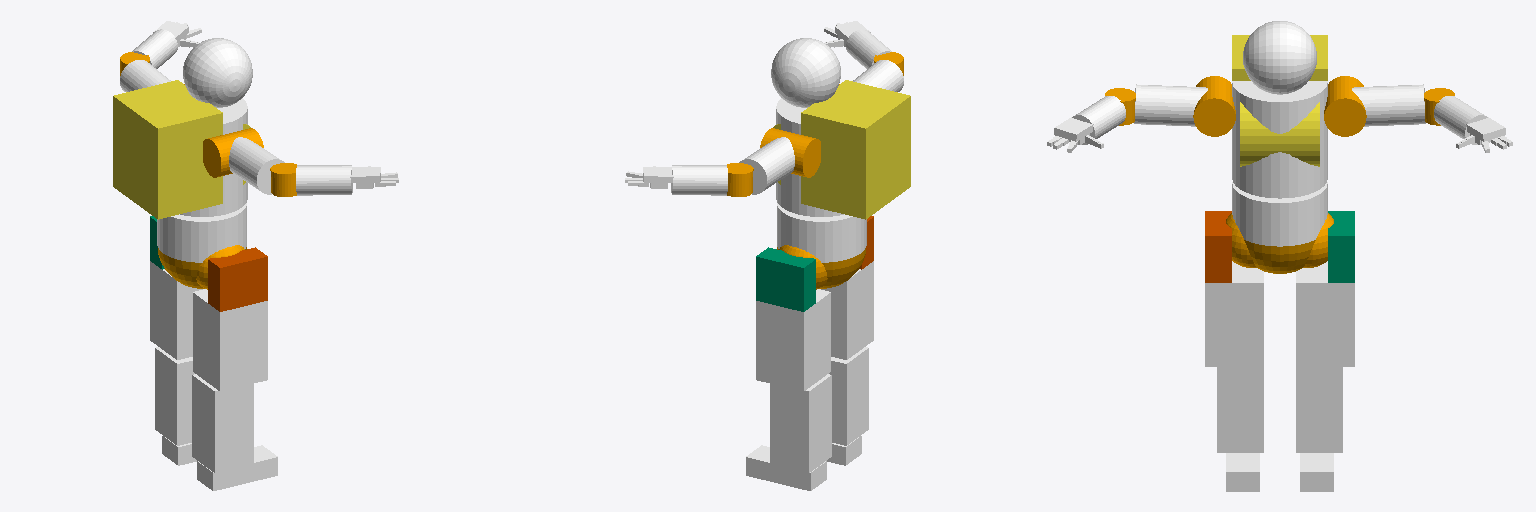
--- What the picture shows (computed from the rendered views, not written in the file) ---
Views: 3 orthographic renders of the robot side by side, from view 1: azimuth 30°, elevation 25°; view 2: azimuth 150°, elevation 25°; view 3: azimuth 270°, elevation 25°.
Model V1 with 101 links and 100 joints (32 revolute, 68 fixed), rooted at Pelvis, posed joints at zero except 4 at the middle of their limits (RightShoulderAdductor = -1.61, RightElbowExtensor = -1, LeftShoulderAdductor = -1.61, LeftElbowExtensor = -1).
Links seen in each view (by area): view 1: Trunk, RightLeg, RightShankStructure, Pelvis, Head, LeftLeg, LeftShankStructure, r_foot, RightForearm, RightShoulderRotator, RightShoulderExtensor, LeftForearm (+4 smaller); view 2: Trunk, LeftLeg, LeftShankStructure, Pelvis, Head, RightLeg, RightShankStructure, l_foot, LeftForearm, LeftShoulderRotator, LeftShoulderExtensor, RightForearm (+4 smaller); view 3: Trunk, RightLeg, LeftLeg, Pelvis, Head, RightShankStructure, LeftShankStructure, RightShoulderExtensor, LeftShoulderExtensor, LeftShoulderRotator, RightShoulderRotator, r_foot (+11 smaller).
Boxes of the visible links, box(x1,y1,x2,y2) form: Trunk: box(113, 80, 250, 219); RightLeg: box(193, 247, 267, 391); RightShankStructure: box(192, 374, 253, 472); Pelvis: box(157, 203, 246, 288); Head: box(183, 38, 252, 107); LeftLeg: box(150, 216, 202, 359); LeftShankStructure: box(155, 347, 194, 445); r_foot: box(197, 445, 277, 490); RightForearm: box(296, 165, 352, 195); RightShoulderRotator: box(233, 143, 284, 194); RightShoulderExtensor: box(203, 128, 263, 177); LeftForearm: box(132, 29, 177, 68); Trunk: box(773, 80, 910, 219); LeftLeg: box(756, 247, 830, 391); LeftShankStructure: box(770, 374, 831, 472); Pelvis: box(777, 203, 866, 288); Head: box(771, 38, 840, 107); RightLeg: box(821, 216, 873, 359); RightShankStructure: box(829, 347, 868, 445); l_foot: box(746, 445, 826, 490); LeftForearm: box(671, 165, 727, 195); LeftShoulderRotator: box(739, 143, 791, 194); LeftShoulderExtensor: box(760, 128, 820, 177); RightForearm: box(846, 29, 891, 68); Trunk: box(1232, 35, 1327, 198); RightLeg: box(1205, 211, 1263, 366); LeftLeg: box(1296, 211, 1354, 366); Pelvis: box(1232, 182, 1327, 273); Head: box(1243, 21, 1316, 94); RightShankStructure: box(1217, 367, 1263, 452); LeftShankStructure: box(1296, 367, 1342, 452); RightShoulderExtensor: box(1193, 76, 1235, 136); LeftShoulderExtensor: box(1324, 76, 1366, 136); LeftShoulderRotator: box(1371, 84, 1425, 125); RightShoulderRotator: box(1134, 84, 1188, 125); r_foot: box(1226, 453, 1259, 491).
Bounding box of the posed robot: 0.7539 × 1.75 × 1.87 m (x, y, z).
Geometry: primitives only (box / cylinder / sphere), no mesh files.

URDF robot description (V1):
<?xml version="1.0" ?><!-- =================================================================================== --><!-- |    This document was autogenerated by xacro from [local-path]/groovy_workspace/drc_configuration/xacro/V1_sim.xacro | --><!-- |    EDITING THIS FILE BY HAND IS NOT RECOMMENDED                                 | --><!-- =================================================================================== --><robot name="V1" xmlns:xacro="http://www.ros.org/wiki/xacro">
    <!-- ======================================================= -->
    <!-- DO NOT MODIFY URDF BY HAND! YOU ARE A FOOL IF YOU DO! -->
    <!-- ======================================================= -->
    <material name="White">
        <color rgba="1.0 1.0 1.0 1.0"/>
    </material>
    <material name="Gold">
        <color rgba="1.0 0.67 0 1.0"/>
    </material>
    <material name="Gray">
        <color rgba="0.5 0.5 0.5 1.0"/>
    </material>
    <material name="Pink">
        <color rgba="0.8 0 0.45 1.0"/>
    </material>
    
    
    
    <link name="Pelvis">
        <inertial>
            <mass value="6.95"/>
            <origin rpy="0 0 0" xyz="0.0005 -0.0009 -0.0704"/>
            <inertia ixx="0.147396179167" ixy="0.0" ixz="0.0" iyy="0.125244791667" iyz="0.0" izz="0.114921145833"/>
        </inertial>
        
        
    <collision><geometry><cylinder length="0.18" radius="0.18"/></geometry><origin rpy="0 0 0" xyz="0 0 -0.09"/></collision><collision><geometry><sphere radius="0.18"/></geometry><origin xyz="0 0 -0.18"/></collision><visual><geometry><cylinder length="0.18" radius="0.18"/></geometry><origin rpy="0 0 0" xyz="0 0 -0.09"/><material name="White"/></visual><visual><geometry><sphere radius="0.18"/></geometry><origin xyz="0 0 -0.18"/></visual></link>
    
    <link name="RightPelvisIMU_Frame">
        <inertial>
            <mass value="0.018"/>
            <origin rpy="0 0 0" xyz="0 0 0"/>
            <inertia ixx="3.0855e-06" ixy="0.0" ixz="0.0" iyy="3.768e-06" iyz="0.0" izz="1.0455e-06"/>
        </inertial>
        
        
    </link>
    
    <joint name="RightPelvisIMU_Offset" type="fixed">
        <origin rpy="-1.57079632679 0 1.275" xyz=".0459 -.1219 -.0423"/>
        <axis xyz="0 0 1"/>
        <parent link="Pelvis"/>
        <child link="RightPelvisIMU_Frame"/>
    </joint>
    <link name="LeftPelvisIMU_Frame">
        <inertial>
            <mass value="0.018"/>
            <origin rpy="0 0 0" xyz="0 0 0"/>
            <inertia ixx="3.0855e-06" ixy="0.0" ixz="0.0" iyy="3.768e-06" iyz="0.0" izz="1.0455e-06"/>
        </inertial>
        
        
    </link>
    
    <joint name="LeftPelvisIMU_Offset" type="fixed">
        <origin rpy="1.57079632679 0 -1.275" xyz=".0459 .1219 -.0423"/>
        <axis xyz="0 0 1"/>
        <parent link="Pelvis"/>
        <child link="LeftPelvisIMU_Frame"/>
    </joint>
    <link name="Trunk">
        <inertial>
            <mass value="41.9"/>
            <origin rpy="0 0 0" xyz="0.255 0 -0.0981"/>
            <inertia ixx="1.18918135833" ixy="0.0" ixz="0.0" iyy="1.42217329167" iyz="0.0" izz="1.35591891667"/>
        </inertial>
        
        
    <collision><geometry><cylinder length="0.4" radius="0.18"/></geometry><origin rpy="0 1.57079632679 0" xyz="0.2 0 -0.04"/></collision><collision><geometry><cylinder length="0.3" radius="0.15"/></geometry><origin rpy="1.57079632679 0 0" xyz="0.23 0 -0.005"/></collision><collision><geometry><box size="0.4 0.36 0.3"/></geometry><origin rpy="0 0 0" xyz="0.25 0 -0.2"/></collision><visual><geometry><cylinder length="0.4" radius="0.18"/></geometry><origin rpy="0 1.57079632679 0" xyz="0.2 0 -0.04"/><material name="White"/></visual><visual><geometry><cylinder length="0.3" radius="0.15"/></geometry><origin rpy="1.57079632679 0 0" xyz="0.23 0 -0.005"/></visual><visual><geometry><box size="0.4 0.36 0.3"/></geometry><origin rpy="0 0 0" xyz="0.25 0 -0.2"/></visual></link>
    
    <link name="WaistRotator">
        <!-- Virtual Link -->
        <inertial>
            <mass value="0.1"/>
            <origin rpy="0 0 0" xyz="0 0 0"/>
            <inertia ixx="8.33333333333e-05" ixy="0.0" ixz="0.0" iyy="8.33333333333e-05" iyz="0.0" izz="0.000125"/>
        </inertial>
    </link>
    <link name="WaistExtensor">
        <!-- Virtual Link -->
        <inertial>
            <mass value="0.1"/>
            <origin rpy="0 0 0" xyz="0 0 0"/>
            <inertia ixx="8.33333333333e-05" ixy="0.0" ixz="0.0" iyy="8.33333333333e-05" iyz="0.0" izz="0.000125"/>
        </inertial>
    </link>
    <joint name="WaistRotator" type="revolute">
        <origin rpy="0 0 0" xyz="0 0 0"/>
        <axis xyz="0 0 1"/>
        <parent link="Pelvis"/>
        <child link="WaistRotator"/>
        <limit effort="190" lower="-0.6981317004" upper="0.6981317004" velocity="5.89"/>
        <controller_gains Kd="400" Kp="20000"/>
        <dynamics damping="1.0" friction="0.0"/>
    </joint>
    
    <joint name="WaistExtensor" type="revolute">
        <origin rpy="1.57079632679 0 0" xyz="0.04191 0 0"/>
        <axis xyz="0 0 1"/>
        <parent link="WaistRotator"/>
        <child link="WaistExtensor"/>
        <limit effort="150" lower="-0.6981317004" upper="0.08726646255" velocity="9"/>
        <controller_gains Kd="400" Kp="20000"/>
        <dynamics damping="1.0" friction="0.0"/>
    </joint>
    
    <joint name="WaistLateralExtensor" type="revolute">
        <origin rpy="1.57079632679 0 1.57079632679" xyz="0 0.020352 0"/>
        <axis xyz="0 0 1"/>
        <parent link="WaistExtensor"/>
        <child link="Trunk"/>
        <limit effort="150" lower="-0.26179938765" upper="0.26179938765" velocity="9"/>
        <controller_gains Kd="400" Kp="20000"/>
        <dynamics damping="1.0" friction="0.0"/>
    </joint>
    
    
    
    
    
    
    
    <link name="RightIMU_Frame">
        <inertial>
            <mass value="0.018"/>
            <origin rpy="0 0 0" xyz="0 0 0"/>
            <inertia ixx="3.0855e-06" ixy="0.0" ixz="0.0" iyy="3.768e-06" iyz="0.0" izz="1.0455e-06"/>
        </inertial>
        
        
    </link>
    
    <joint name="RightIMU_Offset" type="fixed">
        <origin rpy="-1.57079632679 1.57079632679 0" xyz="0.363038 0.134239 -0.0468630"/>
        <axis xyz="0 0 1"/>
        <parent link="Trunk"/>
        <child link="RightIMU_Frame"/>
    </joint>
    <link name="LeftIMU_Frame">
        <inertial>
            <mass value="0.018"/>
            <origin rpy="0 0 0" xyz="0 0 0"/>
            <inertia ixx="3.0855e-06" ixy="0.0" ixz="0.0" iyy="3.768e-06" iyz="0.0" izz="1.0455e-06"/>
        </inertial>
        
        
    </link>
    
    <joint name="LeftIMU_Offset" type="fixed">
        <origin rpy="1.57079632679 1.57079632679 0" xyz="0.363038 -0.134239  -0.0468630"/>
        <axis xyz="0 0 1"/>
        <parent link="Trunk"/>
        <child link="LeftIMU_Frame"/>
    </joint>
    <link name="RightHazardCamera_Frame">
        <!-- Virtual Link -->
        <inertial>
            <mass value="0.1"/>
            <origin rpy="0 0 0" xyz="0 0 0"/>
            <inertia ixx="8.33333333333e-05" ixy="0.0" ixz="0.0" iyy="8.33333333333e-05" iyz="0.0" izz="0.000125"/>
        </inertial>
    </link>
    
    <joint name="RightHazardCamera_Offset" type="fixed">
        <origin rpy="0 0 0" xyz="0.0446987 0.0406146 0.0182674"/>
        <axis xyz="0 0 1"/>
        <parent link="Trunk"/>
        <child link="RightHazardCamera_Frame"/>
    </joint>
    <link name="LeftHazardCamera_Frame">
        <!-- Virtual Link -->
        <inertial>
            <mass value="0.1"/>
            <origin rpy="0 0 0" xyz="0 0 0"/>
            <inertia ixx="8.33333333333e-05" ixy="0.0" ixz="0.0" iyy="8.33333333333e-05" iyz="0.0" izz="0.000125"/>
        </inertial>
    </link>
    
    <joint name="LeftHazardCamera_Offset" type="fixed">
        <origin rpy="0 0 0" xyz="0.0446987 -0.0406146 0.0182674"/>
        <axis xyz="0 0 1"/>
        <parent link="Trunk"/>
        <child link="LeftHazardCamera_Frame"/>
    </joint>
    <link name="StereoHazardCamera_Frame">
        <!-- Virtual Link -->
        <inertial>
            <mass value="0.1"/>
            <origin rpy="0 0 0" xyz="0 0 0"/>
            <inertia ixx="8.33333333333e-05" ixy="0.0" ixz="0.0" iyy="8.33333333333e-05" iyz="0.0" izz="0.000125"/>
        </inertial>
    </link>
    <joint name="StereoHazardCamera_Offset" type="fixed">
        <origin rpy="0 0 1.57" xyz=".1723 -0.04535 0.0344"/>
        <axis xyz="0 0 1"/>
        <parent link="Trunk"/>
        <child link="StereoHazardCamera_Frame"/>
    </joint>
    <link name="LowerNeckExtensor">
        <!-- Virtual Link -->
        <inertial>
            <mass value="0.1"/>
            <origin rpy="0 0 0" xyz="0 0 0"/>
            <inertia ixx="8.33333333333e-05" ixy="0.0" ixz="0.0" iyy="8.33333333333e-05" iyz="0.0" izz="0.000125"/>
        </inertial>
        
        
    </link>
    <link name="NeckRotator">
        <!-- Virtual Link -->
        <inertial>
            <mass value="0.1"/>
            <origin rpy="0 0 0" xyz="0 0 0"/>
            <inertia ixx="8.33333333333e-05" ixy="0.0" ixz="0.0" iyy="8.33333333333e-05" iyz="0.0" izz="0.000125"/>
        </inertial>
        
        
    </link>
    <link name="Head">
        <inertial>
            <mass value="3.842"/>
            <origin rpy="0 0 0" xyz="-0.079 0.009 0"/>
            <inertia ixx="0.03012128" ixy="0.0" ixz="0.0" iyy="0.03012128" iyz="0.0" izz="0.03012128"/>
        </inertial>
        
        
    <collision><geometry><sphere radius="0.14"/></geometry><origin xyz="-0.09 0 0"/></collision><visual><geometry><sphere radius="0.14"/></geometry><origin xyz="-0.09 0 0"/><material name="White"/></visual></link>
    
    <joint name="LowerNeckExtensor" type="revolute">
        <origin rpy="-1.57079632679 0 0" xyz="0.3383 0 0.0519"/>
        <axis xyz="0 0 1"/>
        <parent link="Trunk"/>
        <child link="LowerNeckExtensor"/>
        <limit effort="26" lower="-1.5707963259" upper="0" velocity="5"/>
        <controller_gains Kd="0" Kp="20000"/>
        <dynamics damping="1.0" friction="0.0"/>
    </joint>
    
    <joint name="NeckRotator" type="revolute">
        <origin rpy="1.57079632679 0 1.57079632679" xyz="0 0.0519 0"/>
        <axis xyz="0 0 1"/>
        <parent link="LowerNeckExtensor"/>
        <child link="NeckRotator"/>
        <limit effort="26" lower="-1.5707963259" upper="1.5707963259" velocity="5"/>
        <controller_gains Kd="0" Kp="20000"/>
        <dynamics damping="1.0" friction="0.0"/>
    </joint>
    
    <joint name="UpperNeckExtensor" type="revolute">
        <origin rpy="-1.57079632679 0 0" xyz="0.06 0 0.196"/>
        <axis xyz="0 0 1"/>
        <parent link="NeckRotator"/>
        <child link="Head"/>
<!--        <limit effort="26" lower="-0.08726646255" upper="0.78539816295" velocity="5"/> -->
        <limit effort="26" lower="-0.15" upper="0.78539816295" velocity="5"/>
        <controller_gains Kd="0" Kp="20000"/>
        <dynamics damping="1.0" friction="0.0"/>
    </joint>
    
    
    
    
    
    
    
    <link name="HeadCamBoard_Frame">
        <!-- Virtual Link -->
        <inertial>
            <mass value="0.1"/>
            <origin rpy="0 0 0" xyz="0 0 0"/>
            <inertia ixx="8.33333333333e-05" ixy="0.0" ixz="0.0" iyy="8.33333333333e-05" iyz="0.0" izz="0.000125"/>
        </inertial>
    </link>
    
    <joint name="HeadCamBoard_Offset" type="fixed">
        <origin rpy="1.57079632679 3.14159265359 -.61" xyz="-0.186861111 0.085358875 -0.008499998"/>
        <axis xyz="0 0 1"/>
        <parent link="Head"/>
        <child link="HeadCamBoard_Frame"/>
    </joint>
    <link name="HeadCamBoardIR_Frame">
        <!-- Virtual Link -->
        <inertial>
            <mass value="0.1"/>
            <origin rpy="0 0 0" xyz="0 0 0"/>
            <inertia ixx="8.33333333333e-05" ixy="0.0" ixz="0.0" iyy="8.33333333333e-05" iyz="0.0" izz="0.000125"/>
        </inertial>
    </link>
    <joint name="HeadCamBoardIR_Offset" type="fixed">
        <origin rpy="-1.4279169 0.057186 -1.603747" xyz="-0.05180 -0.0013 0.030237"/>
        <axis xyz="0 0 1"/>
        <parent link="HeadCamBoard_Frame"/>
        <child link="HeadCamBoardIR_Frame"/>
    </joint>
    <link name="Ibeo_Frame">
        <!-- Virtual Link -->
        <inertial>
            <mass value="0.1"/>
            <origin rpy="0 0 0" xyz="0 0 0"/>
            <inertia ixx="8.33333333333e-05" ixy="0.0" ixz="0.0" iyy="8.33333333333e-05" iyz="0.0" izz="0.000125"/>
        </inertial>
    </link>
    
    <joint name="Ibeo_Offset" type="fixed">
        <origin rpy="-1.57079632679 0 -3.14159265359" xyz="-0.133 0.0065 -0.02325"/>
        <axis xyz="0 0 1"/>
        <parent link="Head"/>
        <child link="Ibeo_Frame"/>
    </joint>
    <link name="Ensenso_Frame">
        <!-- Virtual Link -->
        <inertial>
            <mass value="0.1"/>
            <origin rpy="0 0 0" xyz="0 0 0"/>
            <inertia ixx="8.33333333333e-05" ixy="0.0" ixz="0.0" iyy="8.33333333333e-05" iyz="0.0" izz="0.000125"/>
        </inertial>
    </link>
    <joint name="Ensenso_Offset" type="fixed">
        <origin rpy="0 -1.57079632679 0" xyz="-.1836 -.0645 -.00311"/>
        <axis xyz="0 0 1"/>
        <parent link="Head"/>
        <child link="Ensenso_Frame"/>
    </joint>
    <link name="EnsensoIR_Frame">
        <!-- Virtual Link -->
        <inertial>
            <mass value="0.1"/>
            <origin rpy="0 0 0" xyz="0 0 0"/>
            <inertia ixx="8.33333333333e-05" ixy="0.0" ixz="0.0" iyy="8.33333333333e-05" iyz="0.0" izz="0.000125"/>
        </inertial>
    </link>
    <joint name="EnsensoIR_Offset" type="fixed">
        <origin rpy="-0.31182 0.0562965 -0.0034575" xyz="0.0 0.006939 0.014954"/>
        <axis xyz="0 0 1"/>
        <parent link="Ensenso_Frame"/>
        <child link="EnsensoIR_Frame"/>
    </joint>
    <link name="HeadIMU_Frame">
        <inertial>
            <mass value="0.018"/>
            <origin rpy="0 0 0" xyz="0 0 0"/>
            <inertia ixx="3.0855e-06" ixy="0.0" ixz="0.0" iyy="3.768e-06" iyz="0.0" izz="1.0455e-06"/>
        </inertial>
        
        
    </link>
    
    <joint name="HeadIMU_Offset" type="fixed">
        <origin rpy="-1.57079632679 0  0" xyz="-0.103 -0.05239 0.00022730"/>
        <axis xyz="0 0 1"/>
        <parent link="Head"/>
        <child link="HeadIMU_Frame"/>
    </joint>
    <link name="HeadWebcam_Frame">
        <!-- Virtual Link -->
        <inertial>
            <mass value="0.1"/>
            <origin rpy="0 0 0" xyz="0 0 0"/>
            <inertia ixx="8.33333333333e-05" ixy="0.0" ixz="0.0" iyy="8.33333333333e-05" iyz="0.0" izz="0.000125"/>
        </inertial>
    </link>
    
    <joint name="HeadWebcam_Offset" type="fixed">
        <origin rpy="1.57079632679 3.14159265359 -0.2618" xyz="-0.180139 -0.10168 0.00"/>
        <axis xyz="0 0 1"/>
        <parent link="Head"/>
        <child link="HeadWebcam_Frame"/>
    </joint>
    <link name="RightShoulderExtensor">
        <inertial>
            <mass value="2.65"/>
            <origin rpy="0 0 0" xyz="0 -0.01204 -0.251"/>
            <inertia ixx="0.0137181666667" ixy="0.0" ixz="0.0" iyy="0.0105028333333" iyz="0.0" izz="0.0148064333333"/>
        </inertial>
        
        
    <collision><geometry><cylinder length="0.2" radius="0.08"/></geometry><origin rpy="1.57079632679 0 3.14159265359" xyz="0 -0.01 -0.246"/></collision><visual><geometry><cylinder length="0.2" radius="0.08"/></geometry><origin rpy="1.57079632679 0 3.14159265359" xyz="0 -0.01 -0.246"/><material name="Gold"/></visual></link>
    
    <link name="RightShoulderAdductor">
        <inertial>
            <mass value="2.87"/>
            <origin rpy="0 0 0" xyz="0.040 0.005 -0.02"/>
            <inertia ixx="0.0122024325" ixy="0.0" ixz="0.0" iyy="0.0175559325" iyz="0.0" izz="0.018176745"/>
        </inertial>
        
        
    <collision><geometry><cylinder length="0.12" radius="0.075"/></geometry><origin rpy="0 1.57079632679 0" xyz="0.07 0 0"/></collision><visual><geometry><cylinder length="0.12" radius="0.075"/></geometry><origin rpy="0 1.57079632679 0" xyz="0.07 0 0"/><material name="White"/></visual></link>
    
    <link name="RightShoulderRotator">
        <inertial>
            <mass value="2.575"/>
            <origin rpy="0 0 0" xyz="0.02 -0.004 -0.273"/>
            <inertia ixx="0.0227863895833" ixy="0.0" ixz="0.0" iyy="0.0213984645833" iyz="0.0" izz="0.00932579166667"/>
        </inertial>
        
        
    <collision><geometry><cylinder length="0.20" radius="0.075"/></geometry><origin rpy="0 0 0" xyz="0 0 -0.2"/></collision><visual><geometry><cylinder length="0.20" radius="0.075"/></geometry><origin rpy="0 0 0" xyz="0 0 -0.2"/><material name="White"/></visual></link>
    
    <link name="RightElbowExtensor">
        <inertial>
            <mass value="2.367"/>
            <origin rpy="0 0 0" xyz="0.0270 -0.0802 0"/>
            <inertia ixx="0.004941705" ixy="0.0" ixz="0.0" iyy="0.00469849291667" iyz="0.0" izz="0.00530133991667"/>
        </inertial>
        
        
    <collision><geometry><cylinder length="0.10" radius="0.06"/></geometry><origin rpy="0 0 0" xyz="0.02 -0.015 0"/></collision><visual><geometry><cylinder length="0.10" radius="0.06"/></geometry><origin rpy="0 0 0" xyz="0.02 -0.015 0"/><material name="Gold"/></visual></link>
    
    <joint name="RightShoulderExtensor" type="revolute">
        <origin rpy="1.57079632679 0 0" xyz="0.29842 0 -0.03157"/>
        <axis xyz="0 0 1"/>
        <parent link="Trunk"/>
        <child link="RightShoulderExtensor"/>
        <limit effort="190" lower="-3.1415926518" upper="3.1415926518" velocity="5.89"/>
        <controller_gains Kd="400" Kp="20000"/>
        <dynamics damping="1.0" friction="0.0"/>
    </joint>
    
    <joint name="RightShoulderAdductor" type="revolute">
        <origin rpy="1.57079632679 0 3.14159265359" xyz="0 0 -0.246"/>
        <axis xyz="0 0 1"/>
        <parent link="RightShoulderExtensor"/>
        <child link="RightShoulderAdductor"/>
        <limit effort="190" lower="-3.05432618925" upper="-0.1745329251" velocity="5.89"/>
        <controller_gains Kd="400" Kp="20000"/>
        <dynamics damping="1.0" friction="0.0"/>
    </joint>
    
    <joint name="RightShoulderSupinator" type="revolute">
        <origin rpy="-1.57079632679 0 1.57079632679" xyz="0 0 0"/>
        <axis xyz="0 0 1"/>
        <parent link="RightShoulderAdductor"/>
        <child link="RightShoulderRotator"/>
        <limit effort="65" lower="-1.5707963259" upper="1.5707963259" velocity="11.5"/>
        <controller_gains Kd="400" Kp="20000"/>
        <dynamics damping="1.0" friction="0.0"/>
    </joint>
    
    <joint name="RightElbowExtensor" type="revolute">
        <origin rpy="1.57079632679 0 1.57079632679" xyz="0 -0.0254 -0.33"/>
        <axis xyz="0 0 1"/>
        <parent link="RightShoulderRotator"/>
        <child link="RightElbowExtensor"/>
        <limit effort="65" lower="-1.9198621761" upper="-0.08726646255" velocity="11.5"/>
        <controller_gains Kd="400" Kp="20000"/>
        <dynamics damping="1.0" friction="0.0"/>
    </joint>
    
    <link name="RightForearm">
        <inertial>
            <mass value="2.703"/>
            <origin rpy="0 0 0" xyz="0 0.0006 -0.12"/>
            <inertia ixx="0.01633175125" ixy="0.0" ixz="0.0" iyy="0.0169338445" iyz="0.0" izz="0.00666402125"/>
        </inertial>
        
        
    <collision><geometry><cylinder length="0.22" radius="0.06"/></geometry><origin rpy="0 0 0" xyz="0 0 -0.17"/></collision><visual><geometry><cylinder length="0.22" radius="0.06"/></geometry><origin rpy="0 0 0" xyz="0 0 -0.17"/><material name="White"/></visual></link>
    
    <link name="RightWristYoke">
        <inertial>
            <mass value="0.1"/>
            <origin rpy="0 0 0" xyz="0 0 0"/>
            <inertia ixx="2.25083333333e-05" ixy="0.0" ixz="0.0" iyy="2.9175e-05" iyz="0.0" izz="8.33333333333e-06"/>
        </inertial>
        
        
    </link>
    <link name="RightPalm">
        <inertial>
            <mass value="0.712"/>
            <origin rpy="0 0 0" xyz="0.0425 0 0"/>
            <inertia ixx="0.000679010666667" ixy="0.0" ixz="0.0" iyy="0.000514360666667" iyz="0.0" izz="0.00102201666667"/>
        </inertial>
        
        
    <collision><geometry><box size="0.12 0.1 0.03"/></geometry><origin rpy="0 0 0" xyz="0.048 0 -0.0225"/><material name="White"/></collision><collision><geometry><box size="0.07 0.1 0.025"/></geometry><origin rpy="0 0 0" xyz="0.045 0 0.005"/><material name="White"/></collision><visual><geometry><box size="0.12 0.1 0.03"/></geometry><origin rpy="0 0 0" xyz="0.048 0 -0.0225"/><material name="White"/></visual><visual><geometry><box size="0.07 0.1 0.025"/></geometry><origin rpy="0 0 0" xyz="0.045 0 0.005"/><material name="White"/></visual></link>
    
    <joint name="RightForearmSupinator" type="revolute">
        <origin rpy="1.57079632679 0 3.14159265359" xyz="0.0254 0 0"/>
        <axis xyz="0 0 1"/>
        <parent link="RightElbowExtensor"/>
        <child link="RightForearm"/>
        <limit effort="26" lower="-2.35619448885" upper="2.35619448885" velocity="5"/>
        <controller_gains Kd="0" Kp="20000"/>
        <dynamics damping="1.0" friction="0.0"/>
    </joint>
    
    <joint name="RightWristExtensor" type="revolute">
        <origin rpy="-1.57079632679 0 1.57079632679" xyz="0 0 -0.287"/>
        <axis xyz="0 0 1"/>
        <parent link="RightForearm"/>
        <child link="RightWristYoke"/>
        <limit effort="14" lower="-0.8726646255" upper="0.6981317004" velocity="1"/>
        <controller_gains Kd="400" Kp="20000"/>
        <dynamics damping="1.0" friction="0.0"/>
    </joint>
    
    <joint name="RightWrist" type="revolute">
        <origin rpy="1.57079632679 0 1.57079632679" xyz="0 0 0"/>
        <axis xyz="0 0 1"/>
        <parent link="RightWristYoke"/>
        <child link="RightPalm"/>
        <limit effort="14" lower="-0.5235987753" upper="0.43633231275" velocity="1"/>
        <controller_gains Kd="400" Kp="20000"/>
        <dynamics damping="1.0" friction="0.0"/>
    </joint>
    
    
    
    
    
    
    
    
    
    
    
    
    
    
    
    <link name="RightCamBoard_Frame">
        <!-- Virtual Link -->
        <inertial>
            <mass value="0.1"/>
            <origin rpy="0 0 0" xyz="0 0 0"/>
            <inertia ixx="8.33333333333e-05" ixy="0.0" ixz="0.0" iyy="8.33333333333e-05" iyz="0.0" izz="0.000125"/>
        </inertial>
    </link>
    
    <joint name="RightCamBoard_Offset" type="fixed">
        <origin rpy="3.14159265359 1.57079632679 3.14159265359" xyz="0.049237 0.006877 -0.250708"/>
        <axis xyz="0 0 1"/>
        <parent link="RightForearm"/>
        <child link="RightCamBoard_Frame"/>
    </joint>
    <link name="RightCamBoardIR_Frame">
        <!-- Virtual Link -->
        <inertial>
            <mass value="0.1"/>
            <origin rpy="0 0 0" xyz="0 0 0"/>
            <inertia ixx="8.33333333333e-05" ixy="0.0" ixz="0.0" iyy="8.33333333333e-05" iyz="0.0" izz="0.000125"/>
        </inertial>
    </link>
    <joint name="RightCamBoardIR_Offset" type="fixed">
        <origin rpy="-1.4279169 0.057186 -1.603747" xyz="-0.05180 -0.0013 0.030237"/>
        <axis xyz="0 0 1"/>
        <parent link="RightCamBoard_Frame"/>
        <child link="RightCamBoardIR_Frame"/>
    </joint>
    <link name="LeftCamBoard_Frame">
        <!-- Virtual Link -->
        <inertial>
            <mass value="0.1"/>
            <origin rpy="0 0 0" xyz="0 0 0"/>
            <inertia ixx="8.33333333333e-05" ixy="0.0" ixz="0.0" iyy="8.33333333333e-05" iyz="0.0" izz="0.000125"/>
        </inertial>
    </link>
    
    <joint name="LeftCamBoard_Offset" type="fixed">
        <origin rpy="3.14159265359 -1.57079632679 0" xyz="0.045536 -0.0085 0.250708"/>
        <axis xyz="0 0 1"/>
        <parent link="LeftForearm"/>
        <child link="LeftCamBoard_Frame"/>
    </joint>
    <link name="LeftCamBoardIR_Frame">
        <!-- Virtual Link -->
        <inertial>
            <mass value="0.1"/>
            <origin rpy="0 0 0" xyz="0 0 0"/>
            <inertia ixx="8.33333333333e-05" ixy="0.0" ixz="0.0" iyy="8.33333333333e-05" iyz="0.0" izz="0.000125"/>
        </inertial>
    </link>
    <joint name="LeftCamBoardIR_Offset" type="fixed">
        <origin rpy="-1.4279169 0.057186 -1.603747" xyz="-0.05180 -0.0013 0.030237"/>
        <axis xyz="0 0 1"/>
        <parent link="LeftCamBoard_Frame"/>
        <child link="LeftCamBoardIR_Frame"/>
    </joint>
    <link name="RightThumbMetacarpal">
        <inertial>
            <mass value="0.017"/>
            <origin rpy="0 0 0" xyz="0 0 0"/>
            <inertia ixx="2.83333333333e-07" ixy="0.0" ixz="0.0" iyy="2.83333333333e-07" iyz="0.0" izz="2.83333333333e-07"/>
        </inertial>
        
        
    </link>
    
    <link name="RightThumbProximalPhalanx">
        <inertial>
            <mass value="0.02"/>
            <origin rpy="0 0 0" xyz="0.017 0 0"/>
            <inertia ixx="1.72833333333e-06" ixy="0.0" ixz="0.0" iyy="5.98666666667e-06" iyz="0.0" izz="5.46166666667e-06"/>
        </inertial>
        
        
    <collision><geometry><box size="0.04 0.015 0.025"/></geometry><origin rpy="0 0 0" xyz="0.02 0 0"/><material name="White"/></collision><visual><geometry><box size="0.04 0.015 0.025"/></geometry><origin rpy="0 0 0" xyz="0.02 0 0"/><material name="White"/></visual></link>
    
    <link name="RightThumbMedialPhalanx">
        <inertial>
            <mass value="0.013"/>
            <origin rpy="0 0 0" xyz="0.011 0 0"/>
            <inertia ixx="7.07416666667e-07" ixy="0.0" ixz="0.0" iyy="1.77666666667e-06" iyz="0.0" izz="1.43541666667e-06"/>
        </inertial>
        
        
    <collision><geometry><box size="0.03 0.015 0.020"/></geometry><origin rpy="0 0 0" xyz="0.015 0 0"/><material name="White"/></collision><visual><geometry><box size="0.03 0.015 0.020"/></geometry><origin rpy="0 0 0" xyz="0.015 0 0"/><material name="White"/></visual></link>
    
    <link name="RightThumbDistalPhalanx">
        <inertial>
            <mass value="0.006"/>
            <origin rpy="0 0 0" xyz="0.0086 0 0"/>
            <inertia ixx="2.525e-07" ixy="0.0" ixz="0.0" iyy="5.45e-07" iyz="0.0" izz="4.365e-07"/>
        </inertial>
        
        
    <collision><geometry><box size="0.022 0.015 0.017"/></geometry><origin rpy="0 0 0" xyz="0.011 0 0"/><material name="White"/></collision><visual><geometry><box size="0.022 0.015 0.017"/></geometry><origin rpy="0 0 0" xyz="0.011 0 0"/><material name="White"/></visual></link>
    
    <joint name="RightThumbMPYaw" type="fixed">
        <origin rpy="1.57079632679 0 -1.34390352" xyz="0.00748367180673 -0.0324153432851 0.005182"/>
        <axis xyz="0 0 1"/>
        <parent link="RightPalm"/>
        <child link="RightThumbMetacarpal"/>
    </joint>
    <joint name="RightThumbMPExtensor" type="fixed">
        <origin rpy="1.57079632679 0 0" xyz="0.02286 0 -0.025091"/>
        <axis xyz="0 0 1"/>
        <parent link="RightThumbMetacarpal"/>
        <child link="RightThumbProximalPhalanx"/>
    </joint>
    <joint name="RightThumbPIPExtensor" type="fixed">
        <origin rpy="0 0 0" xyz="0.0381 0 0"/>
        <axis xyz="0 0 1"/>
        <parent link="RightThumbProximalPhalanx"/>
        <child link="RightThumbMedialPhalanx"/>
    </joint>
    <joint name="RightThumbDIPExtensor" type="fixed">
        <origin rpy="0 0 0" xyz="0.02794 0 0"/>
        <axis xyz="0 0 1"/>
        <parent link="RightThumbMedialPhalanx"/>
        <child link="RightThumbDistalPhalanx"/>
    </joint>
    <link name="RightPrimaryMetacarpal">
        <inertial>
            <mass value="0.006"/>
            <origin rpy="0 0 0" xyz="-0.0048 0 0"/>
            <inertia ixx="4.225e-07" ixy="0.0" ixz="0.0" iyy="6.625e-07" iyz="0.0" izz="6.01e-07"/>
        </inertial>
        
        
    </link>
    
    <link name="RightPrimaryProximalPhalanx">
        <inertial>
            <mass value="0.018"/>
            <origin rpy="0 0 0" xyz="0.0175 0 0"/>
            <inertia ixx="1.203e-06" ixy="0.0" ixz="0.0" iyy="5.0355e-06" iyz="0.0" izz="4.9155e-06"/>
        </inertial>
        
        
    <collision><geometry><box size="0.04 0.015 0.025"/></geometry><origin rpy="0 0 0" xyz="0.02 0 0"/><material name="White"/></collision><visual><geometry><box size="0.04 0.015 0.025"/></geometry><origin rpy="0 0 0" xyz="0.02 0 0"/><material name="White"/></visual></link>
    
    <link name="RightPrimaryMedialPhalanx">
        <inertial>
            <mass value="0.01"/>
            <origin rpy="0 0 0" xyz="0.0108 -0.0003 0"/>
            <inertia ixx="3.81666666667e-07" ixy="0.0" ixz="0.0" iyy="1.20416666667e-06" iyz="0.0" izz="1.10416666667e-06"/>
        </inertial>
        
        
    <collision><geometry><box size="0.03 0.015 0.020"/></geometry><origin rpy="0 0 0" xyz="0.015 0 0"/><material name="White"/></collision><visual><geometry><box size="0.03 0.015 0.020"/></geometry><origin rpy="0 0 0" xyz="0.015 0 0"/><material name="White"/></visual></link>
    
    <link name="RightPrimaryDistalPhalanx">
        <inertial>
            <mass value="0.005"/>
            <origin rpy="0 0 0" xyz="0.00857 -0.000696 0"/>
            <inertia ixx="1.5375e-07" ixy="0.0" ixz="0.0" iyy="3.975e-07" iyz="0.0" izz="3.6375e-07"/>
        </inertial>
        
        
    <collision><geometry><box size="0.022 0.015 0.017"/></geometry><origin rpy="0 0 0" xyz="0.011 0 0"/><material name="White"/></collision><visual><geometry><box size="0.022 0.015 0.017"/></geometry><origin rpy="0 0 0" xyz="0.011 0 0"/><material name="White"/></visual></link>
    
    <joint name="RightPrimaryMPYaw" type="fixed">
        <origin rpy="0.0 0 -0.366519143" xyz="0.0776738914821 -0.0298162134085 0.00254"/>
        <axis xyz="0 0 1"/>
        <parent link="RightPalm"/>
        <child link="RightPrimaryMetacarpal"/>
    </joint>
    <joint name="RightPrimaryMPExtensor" type="fixed">
        <origin rpy="-1.57079632679 0 0.0568977336" xyz="0.0169724899301 0.000966739661347 0"/>
        <axis xyz="0 0 1"/>
        <parent link="RightPrimaryMetacarpal"/>
        <child link="RightPrimaryProximalPhalanx"/>
    </joint>
    <joint name="RightPrimaryPIPExtensor" type="fixed">
        <origin rpy="0 0 0" xyz="0.0381 0 0"/>
        <axis xyz="0 0 1"/>
        <parent link="RightPrimaryProximalPhalanx"/>
        <child link="RightPrimaryMedialPhalanx"/>
    </joint>
    <joint name="RightPrimaryDIPExtensor" type="fixed">
        <origin rpy="0 0 0" xyz="0.02286 0 0"/>
        <axis xyz="0 0 1"/>
        <parent link="RightPrimaryMedialPhalanx"/>
        <child link="RightPrimaryDistalPhalanx"/>
    </joint>
    <link name="RightMiddleProximalPhalanx">
        <inertial>
            <mass value="0.02"/>
            <origin rpy="0 0 0" xyz="0.017 0 0"/>
            <inertia ixx="1.72833333333e-06" ixy="0.0" ixz="0.0" iyy="5.98666666667e-06" iyz="0.0" izz="5.46166666667e-06"/>
        </inertial>
        
        
    <collision><geometry><box size="0.04 0.015 0.025"/></geometry><origin rpy="0 0 0" xyz="0.02 0 0"/><material name="White"/></collision><visual><geometry><box size="0.04 0.015 0.025"/></geometry><origin rpy="0 0 0" xyz="0.02 0 0"/><material name="White"/></visual></link>
    
    <link name="RightMiddleMedialPhalanx">
        <inertial>
            <mass value="0.011"/>
            <origin rpy="0 0 0" xyz="0.011 0 0"/>
            <inertia ixx="5.98583333333e-07" ixy="0.0" ixz="0.0" iyy="1.50333333333e-06" iyz="0.0" izz="1.21458333333e-06"/>
        </inertial>
        
        
    <collision><geometry><box size="0.03 0.015 0.020"/></geometry><origin rpy="0 0 0" xyz="0.015 0 0"/><material name="White"/></collision><visual><geometry><box size="0.03 0.015 0.020"/></geometry><origin rpy="0 0 0" xyz="0.015 0 0"/><material name="White"/></visual></link>
    
    <link name="RightMiddleDistalPhalanx">
        <inertial>
            <mass value="0.006"/>
            <origin rpy="0 0 0" xyz="0.0086 0 0"/>
            <inertia ixx="2.525e-07" ixy="0.0" ixz="0.0" iyy="5.45e-07" iyz="0.0" izz="4.365e-07"/>
        </inertial>
        
        
    <collision><geometry><box size="0.022 0.015 0.017"/></geometry><origin rpy="0 0 0" xyz="0.011 0 0"/><material name="White"/></collision><visual><geometry><box size="0.022 0.015 0.017"/></geometry><origin rpy="0 0 0" xyz="0.011 0 0"/><material name="White"/></visual></link>
    
    <joint name="RightMiddleMPExtensor" type="fixed">
        <origin rpy="-1.57079632679 0 0" xyz="0.09767 0 0.00254"/>
        <axis xyz="0 0 1"/>
        <parent link="RightPalm"/>
        <child link="RightMiddleProximalPhalanx"/>
    </joint>
    <joint name="RightMiddlePIPExtensor" type="fixed">
        <origin rpy="0 0 0" xyz="0.0381 0 0"/>
        <axis xyz="0 0 1"/>
        <parent link="RightMiddleProximalPhalanx"/>
        <child link="RightMiddleMedialPhalanx"/>
    </joint>
    <joint name="RightMiddleDIPExtensor" type="fixed">
        <origin rpy="0 0 0" xyz="0.02286 0 0"/>
        <axis xyz="0 0 1"/>
        <parent link="RightMiddleMedialPhalanx"/>
        <child link="RightMiddleDistalPhalanx"/>
    </joint>
    <link name="RightMedialMetacarpal">
        <inertial>
            <mass value="0.047"/>
            <origin rpy="0 0 0" xyz="0 0 0"/>
            <inertia ixx="7.83333333333e-07" ixy="0.0" ixz="0.0" iyy="7.83333333333e-07" iyz="0.0" izz="7.83333333333e-07"/>
        </inertial>
        
        
    </link>
    
    <link name="RightLittleProximalPhalanx">
        <inertial>
            <mass value="0.02"/>
            <origin rpy="0 0 0" xyz="0 0.017 0.050169"/>
            <inertia ixx="5.98666666667e-06" ixy="0.0" ixz="0.0" iyy="1.72833333333e-06" iyz="0.0" izz="5.46166666667e-06"/>
        </inertial>
        
        
    <collision><geometry><box size="0.04 0.015 0.025"/></geometry><origin rpy="0 0 1.57079632679" xyz="0 0.02 0.05"/><material name="White"/></collision><visual><geometry><box size="0.04 0.015 0.025"/></geometry><origin rpy="0 0 1.57079632679" xyz="0 0.02 0.05"/><material name="White"/></visual></link>
    
    <link name="RightLittleMedialPhalanx">
        <inertial>
            <mass value="0.011"/>
            <origin rpy="0 0 0" xyz="0.011 0 0"/>
            <inertia ixx="5.98583333333e-07" ixy="0.0" ixz="0.0" iyy="1.50333333333e-06" iyz="0.0" izz="1.21458333333e-06"/>
        </inertial>
        
        
    <collision><geometry><box size="0.03 0.015 0.020"/></geometry><origin rpy="0 0 0" xyz="0.015 0 0"/><material name="White"/></collision><visual><geometry><box size="0.03 0.015 0.020"/></geometry><origin rpy="0 0 0" xyz="0.015 0 0"/><material name="White"/></visual></link>
    
    <link name="RightLittleDistalPhalanx">
        <inertial>
            <mass value="0.006"/>
            <origin rpy="0 0 0" xyz="0.0086 0 0"/>
            <inertia ixx="2.525e-07" ixy="0.0" ixz="0.0" iyy="5.45e-07" iyz="0.0" izz="4.365e-07"/>
        </inertial>
        
        
    <collision><geometry><box size="0.022 0.015 0.017"/></geometry><origin rpy="0 0 0" xyz="0.011 0 0"/><material name="White"/></collision><visual><geometry><box size="0.022 0.015 0.017"/></geometry><origin rpy="0 0 0" xyz="0.011 0 0"/><material name="White"/></visual></link>
    
    <joint name="RightLittleMPYaw" type="fixed">
        <origin rpy="-1.57079632679 0 0.690626785" xyz="0.0427072303336 0.0352928446888 -0.007747"/>
        <axis xyz="0 0 1"/>
        <parent link="RightPalm"/>
        <child link="RightMedialMetacarpal"/>
    </joint>
    <joint name="RightLittleMPExtensor" type="fixed">
        <origin rpy="-0.690626785 0 -1.57079632679" xyz="0 -0.010287 -0.071327"/>
        <axis xyz="0 0 1"/>
        <parent link="RightMedialMetacarpal"/>
        <child link="RightLittleProximalPhalanx"/>
    </joint>
    <joint name="RightLittlePIPExtensor" type="fixed">
        <origin rpy="0 0 1.57079632679" xyz="0 0.0381 0.050169"/>
        <axis xyz="0 0 1"/>
        <parent link="RightLittleProximalPhalanx"/>
        <child link="RightLittleMedialPhalanx"/>
    </joint>
    <joint name="RightLittleDIPExtensor" type="fixed">
        <origin rpy="0 0 0" xyz="0.02286 0 0"/>
        <axis xyz="0 0 1"/>
        <parent link="RightLittleMedialPhalanx"/>
        <child link="RightLittleDistalPhalanx"/>
    </joint>
    <link name="LeftShoulderExtensor">
        <inertial>
            <mass value="2.65"/>
            <origin rpy="0 0 0" xyz="0 -0.01204 0.251"/>
            <inertia ixx="0.0137181666667" ixy="0.0" ixz="0.0" iyy="0.0105028333333" iyz="0.0" izz="0.0148064333333"/>
        </inertial>
        
        
    <collision><geometry><cylinder length="0.2" radius="0.08"/></geometry><origin rpy="1.57079632679 0 3.14159265359" xyz="0 -0.01 0.246"/></collision><visual><geometry><cylinder length="0.2" radius="0.08"/></geometry><origin rpy="1.57079632679 0 3.14159265359" xyz="0 -0.01 0.246"/><material name="Gold"/></visual></link>
    
    <link name="LeftShoulderAdductor">
        <inertial>
            <mass value="2.87"/>
            <origin rpy="0.0 0.00 0.0" xyz="0.04 0.005 0.02"/>
            <inertia ixx="0.0122024325" ixy="0.0" ixz="0.0" iyy="0.0175559325" iyz="0.0" izz="0.018176745"/>
        </inertial>
        
        
    <collision><geometry><cylinder length="0.12" radius="0.075"/></geometry><origin rpy="0 1.57079632679 0" xyz="0.07 0 0"/></collision><visual><geometry><cylinder length="0.12" radius="0.075"/></geometry><origin rpy="0 1.57079632679 0" xyz="0.07 0 0"/><material name="White"/></visual></link>
    
    <link name="LeftShoulderRotator">
        <inertial>
            <mass value="2.575"/>
            <origin rpy="0 0 0" xyz="-0.02 0.004 0.273"/>
            <inertia ixx="0.0227863895833" ixy="0.0" ixz="0.0" iyy="0.0213984645833" iyz="0.0" izz="0.00932579166667"/>
        </inertial>
        
        
    <collision><geometry><cylinder length="0.20" radius="0.075"/></geometry><origin rpy="0 0 0" xyz="0 0 0.2"/></collision><visual><geometry><cylinder length="0.20" radius="0.075"/></geometry><origin rpy="0 0 0" xyz="0 0 0.2"/><material name="White"/></visual></link>
    
    <link name="LeftElbowExtensor">
        <inertial>
            <mass value="2.367"/>
            <origin rpy="0 0 0" xyz="0.0270 -0.0802 0"/>
            <inertia ixx="0.004941705" ixy="0.0" ixz="0.0" iyy="0.00469849291667" iyz="0.0" izz="0.00530133991667"/>
        </inertial>
        
        
    <collision><geometry><cylinder length="0.10" radius="0.06"/></geometry><origin rpy="0 0 0" xyz="0.02 -0.015 0"/></collision><visual><geometry><cylinder length="0.10" radius="0.06"/></geometry><origin rpy="0 0 0" xyz="0.02 -0.015 0"/><material name="Gold"/></visual></link>
    
    <joint name="LeftShoulderExtensor" type="revolute">
        <origin rpy="1.57079632679 0 0" xyz="0.29842 0 -0.03157"/>
        <axis xyz="0 0 1"/>
        <parent link="Trunk"/>
        <child link="LeftShoulderExtensor"/>
        <limit effort="190" lower="-3.1415926518" upper="3.1415926518" velocity="5.89"/>
        <controller_gains Kd="400" Kp="20000"/>
        <dynamics damping="1.0" friction="0.0"/>
    </joint>
    
    <joint name="LeftShoulderAdductor" type="revolute">
        <origin rpy="-1.57079632679 0 3.14159265359" xyz="0 0 0.246"/>
        <axis xyz="0 0 1"/>
        <parent link="LeftShoulderExtensor"/>
        <child link="LeftShoulderAdductor"/>
        <limit effort="190" lower="-3.05432618925" upper="-0.1745329251" velocity="5.89"/>
        <controller_gains Kd="400" Kp="20000"/>
        <dynamics damping="1.0" friction="0.0"/>
    </joint>
    
    <joint name="LeftShoulderSupinator" type="revolute">
        <origin rpy="-1.57079632679 0 -1.57079632679" xyz="0 0 0"/>
        <axis xyz="0 0 1"/>
        <parent link="LeftShoulderAdductor"/>
        <child link="LeftShoulderRotator"/>
        <limit effort="65" lower="-1.5707963259" upper="1.5707963259" velocity="11.5"/>
        <controller_gains Kd="400" Kp="20000"/>
        <dynamics damping="1.0" friction="0.0"/>
    </joint>
    
    <joint name="LeftElbowExtensor" type="revolute">
        <origin rpy="-1.57079632679 0 -1.57079632679" xyz="0 0.0254 0.33"/>
        <axis xyz="0 0 1"/>
        <parent link="LeftShoulderRotator"/>
        <child link="LeftElbowExtensor"/>
        <limit effort="65" lower="-1.9198621761" upper="-0.08726646255" velocity="11.5"/>
        <controller_gains Kd="400" Kp="20000"/>
        <dynamics damping="1.0" friction="0.0"/>
    </joint>
    
    <link name="LeftForearm">
        <inertial>
            <mass value="2.703"/>
            <origin rpy="0 0 0" xyz="0 -0.0006 0.12"/>
            <inertia ixx="0.01633175125" ixy="0.0" ixz="0.0" iyy="0.0169338445" iyz="0.0" izz="0.00666402125"/>
        </inertial>
        
        
    <collision><geometry><cylinder length="0.22" radius="0.06"/></geometry><origin rpy="0 0 0" xyz="0 0 0.17"/></collision><visual><geometry><cylinder length="0.22" radius="0.06"/></geometry><origin rpy="0 0 0" xyz="0 0 0.17"/><material name="White"/></visual></link>
    
    <link name="LeftWristYoke">
        <inertial>
            <mass value="0.1"/>
            <origin rpy="0 0 0" xyz="0 0 0"/>
            <inertia ixx="2.25083333333e-05" ixy="0.0" ixz="0.0" iyy="2.9175e-05" iyz="0.0" izz="8.33333333333e-06"/>
        </inertial>
        
        
    </link>
    <link name="LeftPalm">
        <inertial>
            <mass value="0.712"/>
            <origin rpy="0 0 0" xyz="0.0425 0 0"/>
            <inertia ixx="0.000679010666667" ixy="0.0" ixz="0.0" iyy="0.000514360666667" iyz="0.0" izz="0.00102201666667"/>
        </inertial>
        
        
    <collision><geometry><box size="0.12 0.1 0.03"/></geometry><origin rpy="0 0 0" xyz="0.048 0 0.0225"/><material name="White"/></collision><collision><geometry><box size="0.07 0.1 0.025"/></geometry><origin rpy="0 0 0" xyz="0.045 0 -0.005"/><material name="White"/></collision><visual><geometry><box size="0.12 0.1 0.03"/></geometry><origin rpy="0 0 0" xyz="0.048 0 0.0225"/><material name="White"/></visual><visual><geometry><box size="0.07 0.1 0.025"/></geometry><origin rpy="0 0 0" xyz="0.045 0 -0.005"/><material name="White"/></visual></link>
    


  <!-- mfallon extra stuff left hand-->
  <link name="l_hand_force_torque">
    <inertial>
      <mass value="0.001"/>
      <origin xyz="0 0 0"/>
      <inertia ixx="0.00001" ixy="0" ixz="0" iyy="0.00001" iyz="0" izz="0.00001"/>
    </inertial>
    
  </link>
  <joint name="l_hand_force_torque_joint" type="fixed">
    <origin rpy="0 0 0" xyz="0 0 0"/>
    <parent link="LeftPalm"/>
    <child link="l_hand_force_torque"/>
  </joint>
  <link name="left_palm">
    <inertial>
      <mass value="0.001"/>
      <origin xyz="0 0 0"/>
      <inertia ixx="0.00001" ixy="0" ixz="0" iyy="0.00001" iyz="0" izz="0.00001"/>
    </inertial>
    
  </link>
  <joint name="left_valkyrie_hand_joint" type="fixed">
    <origin rpy="1.57079632679 1.57079632679 0" xyz="0.08 0 0"/>
    <parent link="l_hand_force_torque"/>
    <child link="left_palm"/>
  </joint>
  <link name="l_hand_face">
    <inertial>
      <mass value="0.001"/>
      <origin xyz="0 0 0"/>
      <inertia ixx="0.00001" ixy="0" ixz="0" iyy="0.00001" iyz="0" izz="0.00001"/>
    </inertial>
  </link>
  <joint name="l_hand_face_joint" type="fixed">
    <origin rpy="3.14159265359 0 1.57079632679" xyz="0.08 0.0 -0.04"/>
    <parent link="l_hand_force_torque"/>
    <child link="l_hand_face"/>
  </joint>
  <!-- end mfallon extra stuff left hand-->




  <!-- mfallon extra stuff right hand-->
  <link name="r_hand_force_torque">
    <inertial>
      <mass value="0.001"/>
      <origin xyz="0 0 0"/>
      <inertia ixx="0.00001" ixy="0" ixz="0" iyy="0.00001" iyz="0" izz="0.00001"/>
    </inertial>
    
  </link>
  <joint name="r_hand_force_torque_joint" type="fixed">
    <origin rpy="0 0 0" xyz="0 0 0"/>
    <parent link="RightPalm"/>
    <child link="r_hand_force_torque"/>
  </joint>
  <link name="right_palm">
    <inertial>
      <mass value="0.001"/>
      <origin xyz="0 0 0"/>
      <inertia ixx="0.00001" ixy="0" ixz="0" iyy="0.00001" iyz="0" izz="0.00001"/>
    </inertial>
    
  </link>
  <joint name="right_valkyrie_hand_joint" type="fixed">
    <origin rpy="0 -1.57079632679 -1.57079632679" xyz="0.08 0 0"/>
    <parent link="r_hand_force_torque"/>
    <child link="right_palm"/>
  </joint>
  <link name="r_hand_face">
    <inertial>
      <mass value="0.001"/>
      <origin xyz="0 0 0"/>
      <inertia ixx="0.00001" ixy="0" ixz="0" iyy="0.00001" iyz="0" izz="0.00001"/>
    </inertial>
  </link>
  <joint name="r_hand_face_joint" type="fixed">
    <origin rpy="0 0 -1.57079632679" xyz="0.08 0 0.04"/>
    <parent link="r_hand_force_torque"/>
    <child link="r_hand_face"/>
  </joint>
  <!-- end mfallon extra stuff right hand-->




    <joint name="LeftForearmSupinator" type="revolute">
        <origin rpy="-1.57079632679 0 3.14159265359" xyz="0.0254 0 0"/>
        <axis xyz="0 0 1"/>
        <parent link="LeftElbowExtensor"/>
        <child link="LeftForearm"/>
        <limit effort="26" lower="-2.35619448885" upper="2.35619448885" velocity="5"/>
        <controller_gains Kd="0" Kp="20000"/>
        <dynamics damping="1.0" friction="0.0"/>
    </joint>
    
    <joint name="LeftWristExtensor" type="revolute">
        <origin rpy="-1.57079632679 0 -1.57079632679" xyz="0 0 0.287"/>
        <axis xyz="0 0 1"/>
        <parent link="LeftForearm"/>
        <child link="LeftWristYoke"/>
        <limit effort="14" lower="-0.8726646255" upper="0.6981317004" velocity="1"/>
        <controller_gains Kd="400" Kp="20000"/>
        <dynamics damping="1.0" friction="0.0"/>
    </joint>
    
    <joint name="LeftWrist" type="revolute">
        <origin rpy="-1.57079632679 0 -1.57079632679" xyz="0 0 0"/>
        <axis xyz="0 0 1"/>
        <parent link="LeftWristYoke"/>
        <child link="LeftPalm"/>
        <limit effort="14" lower="-0.5235987753" upper="0.43633231275" velocity="1"/>
        <controller_gains Kd="400" Kp="20000"/>
        <dynamics damping="1.0" friction="0.0"/>
    </joint>
    
    
    
    
    
    
    
    
    
    
    
    
    
    
    
    <link name="LeftThumbMetacarpal">
        <inertial>
            <mass value="0.017"/>
            <origin rpy="0 0 0" xyz="0 0 0"/>
            <inertia ixx="2.83333333333e-07" ixy="0.0" ixz="0.0" iyy="2.83333333333e-07" iyz="0.0" izz="2.83333333333e-07"/>
        </inertial>
        
        
    </link>
    
    <link name="LeftThumbProximalPhalanx">
        <inertial>
            <mass value="0.02"/>
            <origin rpy="0 0 0" xyz="0.017 0 0"/>
            <inertia ixx="1.72833333333e-06" ixy="0.0" ixz="0.0" iyy="5.98666666667e-06" iyz="0.0" izz="5.46166666667e-06"/>
        </inertial>
        
        
    <collision><geometry><box size="0.04 0.015 0.025"/></geometry><origin rpy="0 0 0" xyz="0.02 0 0"/><material name="White"/></collision><visual><geometry><box size="0.04 0.015 0.025"/></geometry><origin rpy="0 0 0" xyz="0.02 0 0"/><material name="White"/></visual></link>
    
    <link name="LeftThumbMedialPhalanx">
        <inertial>
            <mass value="0.013"/>
            <origin rpy="0 0 0" xyz="0.011 0 0"/>
            <inertia ixx="7.07416666667e-07" ixy="0.0" ixz="0.0" iyy="1.77666666667e-06" iyz="0.0" izz="1.43541666667e-06"/>
        </inertial>
        
        
    <collision><geometry><box size="0.03 0.015 0.020"/></geometry><origin rpy="0 0 0" xyz="0.015 0 0"/><material name="White"/></collision><visual><geometry><box size="0.03 0.015 0.020"/></geometry><origin rpy="0 0 0" xyz="0.015 0 0"/><material name="White"/></visual></link>
    
    <link name="LeftThumbDistalPhalanx">
        <inertial>
            <mass value="0.006"/>
            <origin rpy="0 0 0" xyz="0.0086 0 0"/>
            <inertia ixx="2.525e-07" ixy="0.0" ixz="0.0" iyy="5.45e-07" iyz="0.0" izz="4.365e-07"/>
        </inertial>
        
        
    <collision><geometry><box size="0.022 0.015 0.017"/></geometry><origin rpy="0 0 0" xyz="0.011 0 0"/><material name="White"/></collision><visual><geometry><box size="0.022 0.015 0.017"/></geometry><origin rpy="0 0 0" xyz="0.011 0 0"/><material name="White"/></visual></link>
    
    <joint name="LeftThumbMPYaw" type="fixed">
        <origin rpy="-1.57079632679 0 -1.34390352" xyz="0.00748367180673 -0.0324153432851 -0.005182"/>
        <axis xyz="0 0 1"/>
        <parent link="LeftPalm"/>
        <child link="LeftThumbMetacarpal"/>
    </joint>
    <joint name="LeftThumbMPExtensor" type="fixed">
        <origin rpy="-1.57079632679 0 0" xyz="0.02286 0 0.025091"/>
        <axis xyz="0 0 1"/>
        <parent link="LeftThumbMetacarpal"/>
        <child link="LeftThumbProximalPhalanx"/>
    </joint>
    <joint name="LeftThumbPIPExtensor" type="fixed">
        <origin rpy="0 0 0" xyz="0.0381 0 0"/>
        <axis xyz="0 0 1"/>
        <parent link="LeftThumbProximalPhalanx"/>
        <child link="LeftThumbMedialPhalanx"/>
    </joint>
    <joint name="LeftThumbDIPExtensor" type="fixed">
        <origin rpy="0 0 0" xyz="0.02794 0 0"/>
        <axis xyz="0 0 1"/>
        <parent link="LeftThumbMedialPhalanx"/>
        <child link="LeftThumbDistalPhalanx"/>
    </joint>
    <link name="LeftPrimaryMetacarpal">
        <inertial>
            <mass value="0.006"/>
            <origin rpy="0 0 0" xyz="-0.0048 0 0"/>
            <inertia ixx="4.225e-07" ixy="0.0" ixz="0.0" iyy="6.625e-07" iyz="0.0" izz="6.01e-07"/>
        </inertial>
        
        
    </link>
    
    <link name="LeftPrimaryProximalPhalanx">
        <inertial>
            <mass value="0.018"/>
            <origin rpy="0 0 0" xyz="0.0175 0 0"/>
            <inertia ixx="1.203e-06" ixy="0.0" ixz="0.0" iyy="5.0355e-06" iyz="0.0" izz="4.9155e-06"/>
        </inertial>
        
        
    <collision><geometry><box size="0.04 0.015 0.025"/></geometry><origin rpy="0 0 0" xyz="0.02 0 0"/><material name="White"/></collision><visual><geometry><box size="0.04 0.015 0.025"/></geometry><origin rpy="0 0 0" xyz="0.02 0 0"/><material name="White"/></visual></link>
    
    <link name="LeftPrimaryMedialPhalanx">
        <inertial>
            <mass value="0.01"/>
            <origin rpy="0 0 0" xyz="0.0108 -0.0003 0"/>
            <inertia ixx="3.81666666667e-07" ixy="0.0" ixz="0.0" iyy="1.20416666667e-06" iyz="0.0" izz="1.10416666667e-06"/>
        </inertial>
        
        
    <collision><geometry><box size="0.03 0.015 0.020"/></geometry><origin rpy="0 0 0" xyz="0.015 0 0"/><material name="White"/></collision><visual><geometry><box size="0.03 0.015 0.020"/></geometry><origin rpy="0 0 0" xyz="0.015 0 0"/><material name="White"/></visual></link>
    
    <link name="LeftPrimaryDistalPhalanx">
        <inertial>
            <mass value="0.005"/>
            <origin rpy="0 0 0" xyz="0.00857 -0.000696 0"/>
            <inertia ixx="1.5375e-07" ixy="0.0" ixz="0.0" iyy="3.975e-07" iyz="0.0" izz="3.6375e-07"/>
        </inertial>
        
        
    <collision><geometry><box size="0.022 0.015 0.017"/></geometry><origin rpy="0 0 0" xyz="0.011 0 0"/><material name="White"/></collision><visual><geometry><box size="0.022 0.015 0.017"/></geometry><origin rpy="0 0 0" xyz="0.011 0 0"/><material name="White"/></visual></link>
    
    <joint name="LeftPrimaryMPYaw" type="fixed">
        <origin rpy="-3.14159265359 0 -0.366519143" xyz="0.0776738914821 -0.0298162134085 -0.00254"/>
        <axis xyz="0 0 1"/>
        <parent link="LeftPalm"/>
        <child link="LeftPrimaryMetacarpal"/>
    </joint>
    <joint name="LeftPrimaryMPExtensor" type="fixed">
        <origin rpy="-1.57079632679 0 0.0568977336" xyz="0.0169724899301 0.000966739661347 0"/>
        <axis xyz="0 0 1"/>
        <parent link="LeftPrimaryMetacarpal"/>
        <child link="LeftPrimaryProximalPhalanx"/>
    </joint>
    <joint name="LeftPrimaryPIPExtensor" type="fixed">
        <origin rpy="0 0 0" xyz="0.0381 0 0"/>
        <axis xyz="0 0 1"/>
        <parent link="LeftPrimaryProximalPhalanx"/>
        <child link="LeftPrimaryMedialPhalanx"/>
    </joint>
    <joint name="LeftPrimaryDIPExtensor" type="fixed">
        <origin rpy="0 0 0" xyz="0.02286 0 0"/>
        <axis xyz="0 0 1"/>
        <parent link="LeftPrimaryMedialPhalanx"/>
        <child link="LeftPrimaryDistalPhalanx"/>
    </joint>
    <link name="LeftMiddleProximalPhalanx">
        <inertial>
            <mass value="0.02"/>
            <origin rpy="0 0 0" xyz="0.017 0 0"/>
            <inertia ixx="1.72833333333e-06" ixy="0.0" ixz="0.0" iyy="5.98666666667e-06" iyz="0.0" izz="5.46166666667e-06"/>
        </inertial>
        
        
    <collision><geometry><box size="0.04 0.015 0.025"/></geometry><origin rpy="0 0 0" xyz="0.02 0 0"/><material name="White"/></collision><visual><geometry><box size="0.04 0.015 0.025"/></geometry><origin rpy="0 0 0" xyz="0.02 0 0"/><material name="White"/></visual></link>
    
    <link name="LeftMiddleMedialPhalanx">
        <inertial>
            <mass value="0.011"/>
            <origin rpy="0 0 0" xyz="0.011 0 0"/>
            <inertia ixx="5.98583333333e-07" ixy="0.0" ixz="0.0" iyy="1.50333333333e-06" iyz="0.0" izz="1.21458333333e-06"/>
        </inertial>
        
        
    <collision><geometry><box size="0.03 0.015 0.020"/></geometry><origin rpy="0 0 0" xyz="0.015 0 0"/><material name="White"/></collision><visual><geometry><box size="0.03 0.015 0.020"/></geometry><origin rpy="0 0 0" xyz="0.015 0 0"/><material name="White"/></visual></link>
    
    <link name="LeftMiddleDistalPhalanx">
        <inertial>
            <mass value="0.006"/>
            <origin rpy="0 0 0" xyz="0.0086 0 0"/>
            <inertia ixx="2.525e-07" ixy="0.0" ixz="0.0" iyy="5.45e-07" iyz="0.0" izz="4.365e-07"/>
        </inertial>
        
        
    <collision><geometry><box size="0.022 0.015 0.017"/></geometry><origin rpy="0 0 0" xyz="0.011 0 0"/><material name="White"/></collision><visual><geometry><box size="0.022 0.015 0.017"/></geometry><origin rpy="0 0 0" xyz="0.011 0 0"/><material name="White"/></visual></link>
    
    <joint name="LeftMiddleMPExtensor" type="fixed">
        <origin rpy="1.57079632679 0 0" xyz="0.09767 0 -0.00254"/>
        <axis xyz="0 0 1"/>
        <parent link="LeftPalm"/>
        <child link="LeftMiddleProximalPhalanx"/>
    </joint>
    <joint name="LeftMiddlePIPExtensor" type="fixed">
        <origin rpy="0 0 0" xyz="0.0381 0 0"/>
        <axis xyz="0 0 1"/>
        <parent link="LeftMiddleProximalPhalanx"/>
        <child link="LeftMiddleMedialPhalanx"/>
    </joint>
    <joint name="LeftMiddleDIPExtensor" type="fixed">
        <origin rpy="0 0 0" xyz="0.02286 0 0"/>
        <axis xyz="0 0 1"/>
        <parent link="LeftMiddleMedialPhalanx"/>
        <child link="LeftMiddleDistalPhalanx"/>
    </joint>
    <link name="LeftMedialMetacarpal">
        <inertial>
            <mass value="0.047"/>
            <origin rpy="0 0 0" xyz="0 0 0"/>
            <inertia ixx="7.83333333333e-07" ixy="0.0" ixz="0.0" iyy="7.83333333333e-07" iyz="0.0" izz="7.83333333333e-07"/>
        </inertial>
        
        
    </link>
    
    <link name="LeftLittleProximalPhalanx">
        <inertial>
            <mass value="0.02"/>
            <origin rpy="0 0 0" xyz="0 -0.017 -0.050169"/>
            <inertia ixx="5.98666666667e-06" ixy="0.0" ixz="0.0" iyy="1.72833333333e-06" iyz="0.0" izz="5.46166666667e-06"/>
        </inertial>
        
        
    <collision><geometry><box size="0.04 0.015 0.025"/></geometry><origin rpy="0 0 -1.57079632679" xyz="0 -0.02 -0.05"/><material name="White"/></collision><visual><geometry><box size="0.04 0.015 0.025"/></geometry><origin rpy="0 0 -1.57079632679" xyz="0 -0.02 -0.05"/><material name="White"/></visual></link>
    
    <link name="LeftLittleMedialPhalanx">
        <inertial>
            <mass value="0.011"/>
            <origin rpy="0 0 0" xyz="0.011 0 0"/>
            <inertia ixx="5.98583333333e-07" ixy="0.0" ixz="0.0" iyy="1.50333333333e-06" iyz="0.0" izz="1.21458333333e-06"/>
        </inertial>
        
        
    <collision><geometry><box size="0.03 0.015 0.020"/></geometry><origin rpy="0 0 0" xyz="0.015 0 0"/><material name="White"/></collision><visual><geometry><box size="0.03 0.015 0.020"/></geometry><origin rpy="0 0 0" xyz="0.015 0 0"/><material name="White"/></visual></link>
    
    <link name="LeftLittleDistalPhalanx">
        <inertial>
            <mass value="0.006"/>
            <origin rpy="0 0 0" xyz="0.0086 0 0"/>
            <inertia ixx="2.525e-07" ixy="0.0" ixz="0.0" iyy="5.45e-07" iyz="0.0" izz="4.365e-07"/>
        </inertial>
        
        
    <collision><geometry><box size="0.022 0.015 0.017"/></geometry><origin rpy="0 0 0" xyz="0.011 0 0"/><material name="White"/></collision><visual><geometry><box size="0.022 0.015 0.017"/></geometry><origin rpy="0 0 0" xyz="0.011 0 0"/><material name="White"/></visual></link>
    
    <joint name="LeftLittleMPYaw" type="fixed">
        <origin rpy="1.57079632679 0 0.690626785" xyz="0.0427072303336 0.0352928446888 0.007747"/>
        <axis xyz="0 0 1"/>
        <parent link="LeftPalm"/>
        <child link="LeftMedialMetacarpal"/>
    </joint>
    <joint name="LeftLittleMPExtensor" type="fixed">
        <origin rpy="-0.690626785 0 1.57079632679" xyz="0 -0.010287 0.071327"/>
        <axis xyz="0 0 1"/>
        <parent link="LeftMedialMetacarpal"/>
        <child link="LeftLittleProximalPhalanx"/>
    </joint>
    <joint name="LeftLittlePIPExtensor" type="fixed">
        <origin rpy="0 0 -1.57079632679" xyz="0 -0.0381 -0.050169"/>
        <axis xyz="0 0 1"/>
        <parent link="LeftLittleProximalPhalanx"/>
        <child link="LeftLittleMedialPhalanx"/>
    </joint>
    <joint name="LeftLittleDIPExtensor" type="fixed">
        <origin rpy="0 0 0" xyz="0.02286 0 0"/>
        <axis xyz="0 0 1"/>
        <parent link="LeftLittleMedialPhalanx"/>
        <child link="LeftLittleDistalPhalanx"/>
    </joint>
    <link name="RightHipRotator">
        <inertial>
            <mass value="2.39"/>
            <origin rpy="0 0 0" xyz="0.001307857 0.021764163 0.038670367"/>
            <inertia ixx="0.0172609783333" ixy="0.0" ixz="0.0" iyy="0.0148661983333" iyz="0.0" izz="0.0112381783333"/>
        </inertial>
        
        
    <collision><geometry><sphere radius="0.12"/></geometry><origin xyz="0 0.01 -0.035"/></collision><visual><geometry><sphere radius="0.12"/></geometry><origin xyz="0 0.01 -0.035"/><material name="Gold"/></visual></link>
    
    <link name="RightHipAdductor">
        <inertial>
            <mass value="5.95"/>
            <origin rpy="0 0 0" xyz="0.024260044 0.019261751 -0.0018458616"/>
            <inertia ixx="0.0244713583333" ixy="0.0" ixz="0.0" iyy="0.0160104583333" iyz="0.0" izz="0.0254788916667"/>
        </inertial>
        
        
    </link>
    
    <link name="RightLeg">
        <inertial>
            <mass value="8.64"/>
            <origin rpy="0 0 0" xyz="0.25533364 -0.016460667 -0.035"/>
            <inertia ixx="0.07918056" ixy="0.0" ixz="0.0" iyy="0.2920464" iyz="0.0" izz="0.3124692"/>
        </inertial>
        
        
    <collision><geometry><box size="0.35 0.22 0.22"/></geometry><origin rpy="0 0 0" xyz="0.28 -0.03 -0.07"/></collision><collision><geometry><box size="0.194 0.22 0.1"/></geometry><origin rpy="0 0 0" xyz="0.008 -0.03 -0.13"/></collision><visual><geometry><box size="0.35 0.22 0.22"/></geometry><origin rpy="0 0 0" xyz="0.28 -0.03 -0.07"/><material name="White"/></visual><visual><geometry><box size="0.194 0.22 0.1"/></geometry><origin rpy="0 0 0" xyz="0.008 -0.03 -0.13"/></visual></link>
    
    <link name="RightShankStructure">
        <inertial>
            <mass value="8.002"/>
            <origin rpy="0 0 0" xyz="0.12342688 -0.0087741035 0.006614093"/>
            <inertia ixx="0.0504612788333" ixy="0.0" ixz="0.0" iyy="0.140171700833" iyz="0.0" izz="0.13887471"/>
        </inertial>
        
        
    <collision><geometry><box size="0.36 0.18 0.18"/></geometry><origin rpy="0 0 0" xyz="0.22 0.01 0.01"/></collision><visual><geometry><box size="0.36 0.18 0.18"/></geometry><origin rpy="0 0 0" xyz="0.22 0.01 0.01"/><material name="White"/></visual></link>
    
    <link name="RightAnkleYoke">
        <inertial>
            <mass value="0.395"/>
            <origin rpy="0 0 0" xyz="0.0057963439 0.0020433211 9.0424431e-05"/>
            <inertia ixx="0.000210699583333" ixy="0.0" ixz="0.0" iyy="5.64191666667e-05" iyz="0.0" izz="0.000225972916667"/>
        </inertial>
        
        
    </link>
    <link name="r_foot">
        <inertial>
            <mass value="1.888"/>
            <origin rpy="0 0.13 0" xyz="0.048263578 -3.1591183e-05 0.077849126"/>
            <inertia ixx="0.0167377493333" ixy="0.0" ixz="0.0" iyy="0.0152179093333" iyz="0.0" izz="0.00363565866667"/>
        </inertial>
        
        <collision>
            <origin rpy="0 0.13 0" xyz="0.048263578 -3.1591183e-05 0.077849126"/>
            <geometry>
                <box size="0.082 0.128 0.3"/>
            </geometry>
        <material name="White"/></collision>

    <collision>
      <origin rpy="0 0 0" xyz="0.075 0.0624435 -0.0775"/>
      <geometry>
        <sphere radius="0.0"/>
      </geometry>
    <material name="White"/></collision>
    
    <collision>
      <origin rpy="0 0 0" xyz="0.075 -0.0624435 -0.0775"/>
      <geometry>
        <sphere radius="0.0"/>
      </geometry>
    <material name="White"/></collision>
    
    <collision>
      <origin rpy="0 0 0" xyz="0.11 0.0624435 0.22"/>
      <geometry>
        <sphere radius="0.0"/>
      </geometry>
    <material name="White"/></collision>
    
    <collision>
      <origin rpy="0 0 0" xyz="0.11 -0.0624435 0.22"/>
      <geometry>
        <sphere radius="0.0"/>
      </geometry>
    <material name="White"/></collision>
    

    <visual><geometry><box size="0.082 0.128 0.3"/></geometry><origin rpy="0 0.13 0" xyz="0.048263578 -3.1591183e-05 0.077849126"/><material name="White"/></visual></link>
  <frame link="r_foot" name="r_foot_sole" rpy="0 -1.4408 0" xyz="0.0925 0 0.07125"/>
    
    
    <joint name="RightHipRotator" type="revolute">
        <origin rpy="0.0 0 -1.57079632679" xyz="0 -0.1016 -0.183"/>
        <axis xyz="0 0 1"/>
        <parent link="Pelvis"/>
        <child link="RightHipRotator"/>
        <limit effort="190" lower="-0.5235987753" upper="0.169296937347" velocity="5.89"/>
        <controller_gains Kd="500" Kp="15000"/>
        <dynamics damping="1.0" friction="0.0"/>
    </joint>
    
    <joint name="RightHipAdductor" type="revolute">
        <origin rpy="-1.57079632679 0 0" xyz="0 0 0"/>
        <axis xyz="0 0 1"/>
        <parent link="RightHipRotator"/>
        <child link="RightHipAdductor"/>
        <limit effort="350" lower="-0.5235987753" upper="0.26179938765" velocity="7"/>
        <controller_gains Kd="500" Kp="15000"/>
        <dynamics damping="1.0" friction="0.0"/>
    </joint>
    
    <joint name="RightHipExtensor" type="revolute">
        <origin rpy="-1.57079632679 0 1.57079632679" xyz="0 0.061 0"/>
        <axis xyz="0 0 1"/>
        <parent link="RightHipAdductor"/>
        <child link="RightLeg"/>
        <limit effort="350" lower="-2.35619448885" upper="1.71042266598" velocity="6.11"/>
        <controller_gains Kd="500" Kp="15000"/>
        <dynamics damping="1.0" friction="0.0"/>
    </joint>
    
    <joint name="RightKneeExtensor" type="revolute">
        <origin rpy="3.14159265359 0 0" xyz="0.431 0 -0.0374"/>
        <axis xyz="0 0 1"/>
        <parent link="RightLeg"/>
        <child link="RightShankStructure"/>
        <limit effort="350" lower="-1.90240888359" upper="0.218166156375" velocity="6.11"/>
        <controller_gains Kd="500" Kp="15000"/>
        <dynamics damping="1.0" friction="0.0"/>
    </joint>
    
    <joint name="RightAnkleExtensor" type="revolute">
        <origin rpy="3.14159265359 0 0" xyz="0.406 0 0"/>
        <axis xyz="0 0 1"/>
        <parent link="RightShankStructure"/>
        <child link="RightAnkleYoke"/>
        <limit effort="205" lower="-0.8726646255" upper="0.8726646255" velocity="11"/>
        <controller_gains Kd="400" Kp="15000"/>
        <dynamics damping="1.0" friction="0.0"/>
    </joint>
    
    <joint name="RightAnkle" type="revolute">
        <origin rpy="1.57079632679 0 -0.13" xyz="0.0127 0 0"/>
        <axis xyz="0 0 1"/>
        <parent link="RightAnkleYoke"/>
        <child link="r_foot"/>
        <limit effort="205" lower="-0.3490658502" upper="0.3490658502" velocity="11"/>
        <controller_gains Kd="400" Kp="15000"/>
        <dynamics damping="0.3"/>
    </joint>
    
    
    
    
    
    
    
    
    
    
    
    
    
    <link name="RightLegHokuyo_Frame">
        <!-- Virtual Link -->
        <inertial>
            <mass value="0.1"/>
            <origin rpy="0 0 0" xyz="0 0 0"/>
            <inertia ixx="8.33333333333e-05" ixy="0.0" ixz="0.0" iyy="8.33333333333e-05" iyz="0.0" izz="0.000125"/>
        </inertial>
    </link>
    
    <joint name="RightLegHokuyo_Offset" type="fixed">
        <origin rpy="1.57079632679 0 -0.38394" xyz="0.350849 -0.098349 -0.036021"/>
        <axis xyz="0 0 1"/>
        <parent link="RightLeg"/>
        <child link="RightLegHokuyo_Frame"/>
    </joint>
    <link name="RightLegCamBoard_Frame">
        <!-- Virtual Link -->
        <inertial>
            <mass value="0.1"/>
            <origin rpy="0 0 0" xyz="0 0 0"/>
            <inertia ixx="8.33333333333e-05" ixy="0.0" ixz="0.0" iyy="8.33333333333e-05" iyz="0.0" izz="0.000125"/>
        </inertial>
    </link>
    
    <joint name="RightLegCamBoard_Offset" type="fixed">
        <origin rpy="-1.57079632679 0 1.3" xyz="0.344887 0.069118 -0.0085"/>
        <axis xyz="0 0 1"/>
        <parent link="RightShankStructure"/>
        <child link="RightLegCamBoard_Frame"/>
    </joint>
    <link name="RightLegCamBoardIR_Frame">
        <!-- Virtual Link -->
        <inertial>
            <mass value="0.1"/>
            <origin rpy="0 0 0" xyz="0 0 0"/>
            <inertia ixx="8.33333333333e-05" ixy="0.0" ixz="0.0" iyy="8.33333333333e-05" iyz="0.0" izz="0.000125"/>
        </inertial>
    </link>
    <joint name="RightLegCamBoardIR_Offset" type="fixed">
        <origin rpy="-1.4279169 0.057186 -1.603747" xyz="-0.05180 -0.0013 0.030237"/>
        <axis xyz="0 0 1"/>
        <parent link="RightLegCamBoard_Frame"/>
        <child link="RightLegCamBoardIR_Frame"/>
    </joint>
    <link name="RightCOP_Frame">
        <!-- Virtual Link -->
        <inertial>
            <mass value="0.1"/>
            <origin rpy="0 0 0" xyz="0 0 0"/>
            <inertia ixx="8.33333333333e-05" ixy="0.0" ixz="0.0" iyy="8.33333333333e-05" iyz="0.0" izz="0.000125"/>
        </inertial>
    </link>
    <joint name="RightCOP_Offset" type="fixed">
        <origin rpy="0.0 -1.57079632679 0" xyz="0.0845 0 0"/>
        <axis xyz="0 0 1"/>
        <parent link="r_foot"/>
        <child link="RightCOP_Frame"/>
    </joint>
    <link name="RightLeg6Axis_Frame">
        <!-- Virtual Link -->
        <inertial>
            <mass value="0.1"/>
            <origin rpy="0 0 0" xyz="0 0 0"/>
            <inertia ixx="8.33333333333e-05" ixy="0.0" ixz="0.0" iyy="8.33333333333e-05" iyz="0.0" izz="0.000125"/>
        </inertial>
    </link>
    <joint name="RightLeg6Axis_Offset" type="fixed">
        <origin rpy="0 0  0" xyz="0.058547 0 0.0215"/>
        <axis xyz="0 0 1"/>
        <parent link="r_foot"/>
        <child link="RightLeg6Axis_Frame"/>
    </joint>
    <link name="RightLegHermes_Frame">
        <!-- Virtual Link -->
        <inertial>
            <mass value="0.1"/>
            <origin rpy="0 0 0" xyz="0 0 0"/>
            <inertia ixx="8.33333333333e-05" ixy="0.0" ixz="0.0" iyy="8.33333333333e-05" iyz="0.0" izz="0.000125"/>
        </inertial>
    </link>
    <joint name="RightLegHermes_Offset" type="fixed">
        <origin rpy="0.0 -1.57079632679 0" xyz="0.0845 0 0"/>
        <axis xyz="0 0 1"/>
        <parent link="r_foot"/>
        <child link="RightLegHermes_Frame"/>
    </joint>
    <link name="RightMPU6000_Frame">
        <!-- Virtual Link -->
        <inertial>
            <mass value="0.1"/>
            <origin rpy="0 0 0" xyz="0 0 0"/>
            <inertia ixx="8.33333333333e-05" ixy="0.0" ixz="0.0" iyy="8.33333333333e-05" iyz="0.0" izz="0.000125"/>
        </inertial>
    </link>
    <joint name="RightMPU6000_Offset" type="fixed">
        <origin rpy="0 1.44079632679 3.14159265358" xyz="0.0471 0.00722 0.0843"/>
        <axis xyz="0 0 1"/>
        <parent link="r_foot"/>
        <child link="RightMPU6000_Frame"/>
    </joint>
    
    
    <link name="LeftHipRotator">
        <inertial>
            <mass value="2.39"/>
            <origin rpy="0 0 0" xyz="0.001307857 0.021764163 -0.038670367"/>
            <inertia ixx="0.0172609783333" ixy="0.0" ixz="0.0" iyy="0.0148661983333" iyz="0.0" izz="0.0112381783333"/>
        </inertial>
        
        
    <collision><geometry><sphere radius="0.12"/></geometry><origin xyz="0 0.01 0.035"/></collision><visual><geometry><sphere radius="0.12"/></geometry><origin xyz="0 0.01 0.035"/><material name="Gold"/></visual></link>
    
    <link name="LeftHipAdductor">
        <inertial>
            <mass value="5.95"/>
            <origin rpy="0 0 0" xyz="0.024260044 0.019261751 -0.0018458616"/>
            <inertia ixx="0.0244713583333" ixy="0.0" ixz="0.0" iyy="0.0160104583333" iyz="0.0" izz="0.0254788916667"/>
        </inertial>
        
        
    </link>
    
    <link name="LeftLeg">
        <inertial>
            <mass value="8.64"/>
            <origin rpy="0 0 0" xyz="0.25533364 -0.016460667 0.035"/>
            <inertia ixx="0.07918056" ixy="0.0" ixz="0.0" iyy="0.2920464" iyz="0.0" izz="0.3124692"/>
        </inertial>
        
        
    <collision><geometry><box size="0.35 0.22 0.22"/></geometry><origin rpy="0 0 0" xyz="0.28 -0.03 0.07"/></collision><collision><geometry><box size="0.194 0.22 0.1"/></geometry><origin rpy="0 0 0" xyz="0.008 -0.03 0.13"/></collision><visual><geometry><box size="0.35 0.22 0.22"/></geometry><origin rpy="0 0 0" xyz="0.28 -0.03 0.07"/><material name="White"/></visual><visual><geometry><box size="0.194 0.22 0.1"/></geometry><origin rpy="0 0 0" xyz="0.008 -0.03 0.13"/></visual></link>
    
    <link name="LeftShankStructure">
        <inertial>
            <mass value="8.002"/>
            <origin rpy="0 0 0" xyz="0.12342688 -0.0087741035 -0.006614093"/>
            <inertia ixx="0.0504612788333" ixy="0.0" ixz="0.0" iyy="0.140171700833" iyz="0.0" izz="0.13887471"/>
        </inertial>
        
        
    <collision><geometry><box size="0.36 0.18 0.18"/></geometry><origin rpy="0 0 0" xyz="0.22 0.01 -0.01"/></collision><visual><geometry><box size="0.36 0.18 0.18"/></geometry><origin rpy="0 0 0" xyz="0.22 0.01 -0.01"/><material name="White"/></visual></link>
    
    <link name="LeftAnkleYoke">
        <inertial>
            <mass value="0.395"/>
            <origin rpy="0 0 0" xyz="0.0057963439 0.0020433211 9.0424431e-05"/>
            <inertia ixx="0.000210699583333" ixy="0.0" ixz="0.0" iyy="5.64191666667e-05" iyz="0.0" izz="0.000225972916667"/>
        </inertial>
        
        
    </link>
    <link name="l_foot">
        <inertial>
            <mass value="1.888"/>
            <origin rpy="0 -0.13 0" xyz="0.048263578 -3.1591183e-05 -0.077849126"/>
            <inertia ixx="0.0167377493333" ixy="0.0" ixz="0.0" iyy="0.0152179093333" iyz="0.0" izz="0.00363565866667"/>
        </inertial>
        
        <collision>
            <origin rpy="0 -0.13 0" xyz="0.048263578 -3.1591183e-05 -0.077849126"/>
            <geometry>
                <box size="0.082 0.128 0.3"/>
            </geometry>
        <material name="White"/></collision>

    <collision>
      <origin rpy="0 0 0" xyz="0.075 0.0624435 0.0775"/>
      <geometry>
        <sphere radius="0.0"/>
      </geometry>
    <material name="White"/></collision>
    
    <collision>
      <origin rpy="0 0 0" xyz="0.075 -0.0624435 0.0775"/>
      <geometry>
        <sphere radius="0.0"/>
      </geometry>
    <material name="White"/></collision>
    
    <collision>
      <origin rpy="0 0 0" xyz="0.11 0.0624435 -0.22"/>
      <geometry>
        <sphere radius="0.0"/>
      </geometry>
    <material name="White"/></collision>
    
    <collision>
      <origin rpy="0 0 0" xyz="0.11 -0.0624435 -0.22"/>
      <geometry>
        <sphere radius="0.0"/>
      </geometry>
    <material name="White"/></collision>
    

    <visual><geometry><box size="0.082 0.128 0.3"/></geometry><origin rpy="0 -0.13 0" xyz="0.048263578 -3.1591183e-05 -0.077849126"/><material name="White"/></visual></link>
  <frame link="l_foot" name="l_foot_sole" rpy="3.1416 1.4408 0" xyz="0.0925 0 -0.07125"/>
<!--  <frame name="l_foot_sole" xyz="0.082 0 -0.14" rpy="3.1416 1.5708 0" link="l_foot"/> -->
    
    
    <joint name="LeftHipRotator" type="revolute">
        <origin rpy="3.14159265359 0 1.57079632679" xyz="0 0.1016 -0.183"/>
        <axis xyz="0 0 1"/>
        <parent link="Pelvis"/>
        <child link="LeftHipRotator"/>
        <limit effort="190" lower="-0.5235987753" upper="0.169296937347" velocity="5.89"/>
        <controller_gains Kd="500" Kp="15000"/>
        <dynamics damping="1.0" friction="0.0"/>
    </joint>
    
    <joint name="LeftHipAdductor" type="revolute">
        <origin rpy="1.57079632679 0 0" xyz="0 0 0"/>
        <axis xyz="0 0 1"/>
        <parent link="LeftHipRotator"/>
        <child link="LeftHipAdductor"/>
        <limit effort="350" lower="-0.5235987753" upper="0.26179938765" velocity="7"/>
        <controller_gains Kd="500" Kp="15000"/>
        <dynamics damping="1.0" friction="0.0"/>
    </joint>
    
    <joint name="LeftHipExtensor" type="revolute">
        <origin rpy="1.57079632679 0 1.57079632679" xyz="0 0.061 0"/>
        <axis xyz="0 0 1"/>
        <parent link="LeftHipAdductor"/>
        <child link="LeftLeg"/>
        <limit effort="350" lower="-2.35619448885" upper="1.71042266598" velocity="6.11"/>
        <controller_gains Kd="500" Kp="15000"/>
        <dynamics damping="1.0" friction="0.0"/>
    </joint>
    
    <joint name="LeftKneeExtensor" type="revolute">
        <origin rpy="3.14159265359 0 0" xyz="0.431 0 0.0374"/>
        <axis xyz="0 0 1"/>
        <parent link="LeftLeg"/>
        <child link="LeftShankStructure"/>
        <limit effort="350" lower="-1.90240888359" upper="0.218166156375" velocity="6.11"/>
        <controller_gains Kd="500" Kp="15000"/>
        <dynamics damping="1.0" friction="0.0"/>
    </joint>
    
    <joint name="LeftAnkleExtensor" type="revolute">
        <origin rpy="3.14159265359 0 0" xyz="0.406 0 0"/>
        <axis xyz="0 0 1"/>
        <parent link="LeftShankStructure"/>
        <child link="LeftAnkleYoke"/>
        <limit effort="205" lower="-0.8726646255" upper="0.8726646255" velocity="11"/>
        <controller_gains Kd="400" Kp="15000"/>
        <dynamics damping="1.0" friction="0.0"/>
    </joint>
    
    <joint name="LeftAnkle" type="revolute">
        <origin rpy="-1.57079632679 0 -0.13" xyz="0.0127 0 0"/>
        <axis xyz="0 0 1"/>
        <parent link="LeftAnkleYoke"/>
        <child link="l_foot"/>
        <limit effort="205" lower="-0.3490658502" upper="0.3490658502" velocity="11"/>
        <controller_gains Kd="400" Kp="15000"/>
        <dynamics damping="0.3"/>
    </joint>
    
    
    
    
    
    
    
    
    
    
    
    
    
    <link name="LeftLegHokuyo_Frame">
        <!-- Virtual Link -->
        <inertial>
            <mass value="0.1"/>
            <origin rpy="0 0 0" xyz="0 0 0"/>
            <inertia ixx="8.33333333333e-05" ixy="0.0" ixz="0.0" iyy="8.33333333333e-05" iyz="0.0" izz="0.000125"/>
        </inertial>
    </link>
    
    <joint name="LeftLegHokuyo_Offset" type="fixed">
        <origin rpy="1.57079632679 0 -0.38394" xyz="0.350849 -0.098349 0.036021"/>
        <axis xyz="0 0 1"/>
        <parent link="LeftLeg"/>
        <child link="LeftLegHokuyo_Frame"/>
    </joint>
    <link name="LeftLegCamBoard_Frame">
        <!-- Virtual Link -->
        <inertial>
            <mass value="0.1"/>
            <origin rpy="0 0 0" xyz="0 0 0"/>
            <inertia ixx="8.33333333333e-05" ixy="0.0" ixz="0.0" iyy="8.33333333333e-05" iyz="0.0" izz="0.000125"/>
        </inertial>
    </link>
    
    <joint name="LeftLegCamBoard_Offset" type="fixed">
        <origin rpy="-1.57079632679 0 1.3" xyz="0.344887 0.069118 0.0085"/>
        <axis xyz="0 0 1"/>
        <parent link="LeftShankStructure"/>
        <child link="LeftLegCamBoard_Frame"/>
    </joint>
    <link name="LeftLegCamBoardIR_Frame">
        <!-- Virtual Link -->
        <inertial>
            <mass value="0.1"/>
            <origin rpy="0 0 0" xyz="0 0 0"/>
            <inertia ixx="8.33333333333e-05" ixy="0.0" ixz="0.0" iyy="8.33333333333e-05" iyz="0.0" izz="0.000125"/>
        </inertial>
    </link>
    <joint name="LeftLegCamBoardIR_Offset" type="fixed">
        <origin rpy="-1.4279169 0.057186 -1.603747" xyz="-0.05180 -0.0013 0.030237"/>
        <axis xyz="0 0 1"/>
        <parent link="LeftLegCamBoard_Frame"/>
        <child link="LeftLegCamBoardIR_Frame"/>
    </joint>
    <link name="LeftCOP_Frame">
        <!-- Virtual Link -->
        <inertial>
            <mass value="0.1"/>
            <origin rpy="0 0 0" xyz="0 0 0"/>
            <inertia ixx="8.33333333333e-05" ixy="0.0" ixz="0.0" iyy="8.33333333333e-05" iyz="0.0" izz="0.000125"/>
        </inertial>
    </link>
    <joint name="LeftCOP_Offset" type="fixed">
        <origin rpy="3.14159265358 1.57079632679 0" xyz="0.0845 0 0"/>
        <axis xyz="0 0 1"/>
        <parent link="l_foot"/>
        <child link="LeftCOP_Frame"/>
    </joint>
    <link name="LeftLeg6Axis_Frame">
        <!-- Virtual Link -->
        <inertial>
            <mass value="0.1"/>
            <origin rpy="0 0 0" xyz="0 0 0"/>
            <inertia ixx="8.33333333333e-05" ixy="0.0" ixz="0.0" iyy="8.33333333333e-05" iyz="0.0" izz="0.000125"/>
        </inertial>
    </link>
    <joint name="LeftLeg6Axis_Offset" type="fixed">
        <origin rpy="0 0 0" xyz="0.058547 0 -0.0215"/>
        <axis xyz="0 0 1"/>
        <parent link="l_foot"/>
        <child link="LeftLeg6Axis_Frame"/>
    </joint>
    <link name="LeftLegHermes_Frame">
        <!-- Virtual Link -->
        <inertial>
            <mass value="0.1"/>
            <origin rpy="0 0 0" xyz="0 0 0"/>
            <inertia ixx="8.33333333333e-05" ixy="0.0" ixz="0.0" iyy="8.33333333333e-05" iyz="0.0" izz="0.000125"/>
        </inertial>
    </link>
    <joint name="LeftLegHermes_Offset" type="fixed">
        <origin rpy="3.14159265358 1.57079632679 0" xyz="0.0845 0 0"/>
        <axis xyz="0 0 1"/>
        <parent link="l_foot"/>
        <child link="LeftLegHermes_Frame"/>
    </joint>
    <link name="LeftMPU6000_Frame">
        <!-- Virtual Link -->
        <inertial>
            <mass value="0.1"/>
            <origin rpy="0 0 0" xyz="0 0 0"/>
            <inertia ixx="8.33333333333e-05" ixy="0.0" ixz="0.0" iyy="8.33333333333e-05" iyz="0.0" izz="0.000125"/>
        </inertial>
    </link>
    <joint name="LeftMPU6000_Offset" type="fixed">
        <origin rpy="0 -1.70079632679 0.0" xyz="0.0471 -0.00722 -0.0843"/>
        <axis xyz="0 0 1"/>
        <parent link="l_foot"/>
        <child link="LeftMPU6000_Frame"/>
    </joint>
    
    
  
  
  
  
  
  
  
  
  
  
  
  
  
  
  
  
  
  
  
  
  
  
  
  
  
  
  
  
  
  
</robot>
